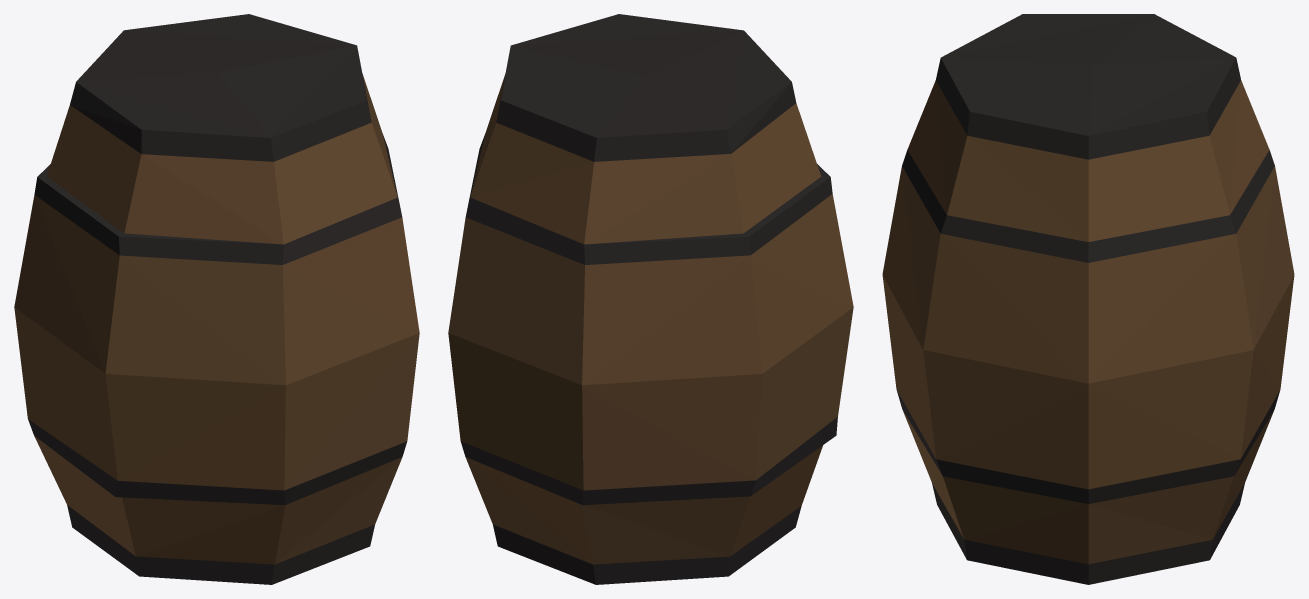
File: barrel.glb
3 views of the same model, side by side, from view 1: azimuth 30°, elevation 25°; view 2: azimuth 150°, elevation 25°; view 3: azimuth 270°, elevation 25° (orthographic).
Parts seen in each view (by area): view 1: BARREL; view 2: BARREL; view 3: BARREL.
Part boxes in pixels (bbox=[...]): BARREL: bbox=[14, 14, 419, 584]; BARREL: bbox=[448, 14, 853, 584]; BARREL: bbox=[882, 14, 1294, 584].
Size of the model in its own units: 1.84 by 2.31 by 1.88.
